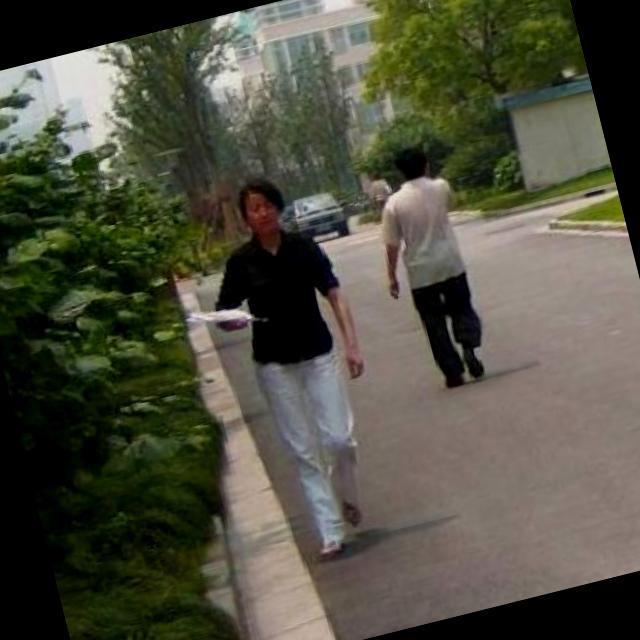Person: (204, 161, 410, 571), (353, 134, 513, 400)
